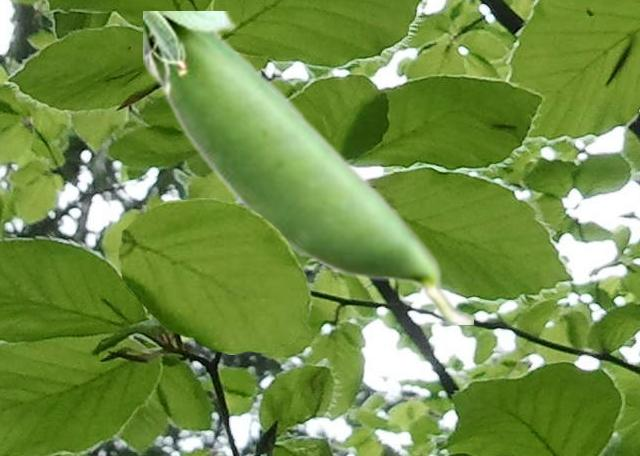pea: (143, 11, 472, 323)
